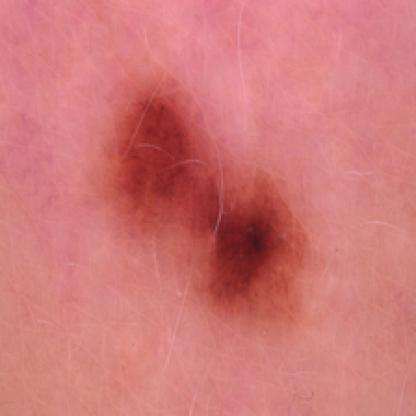benign: (106, 82, 303, 312)
